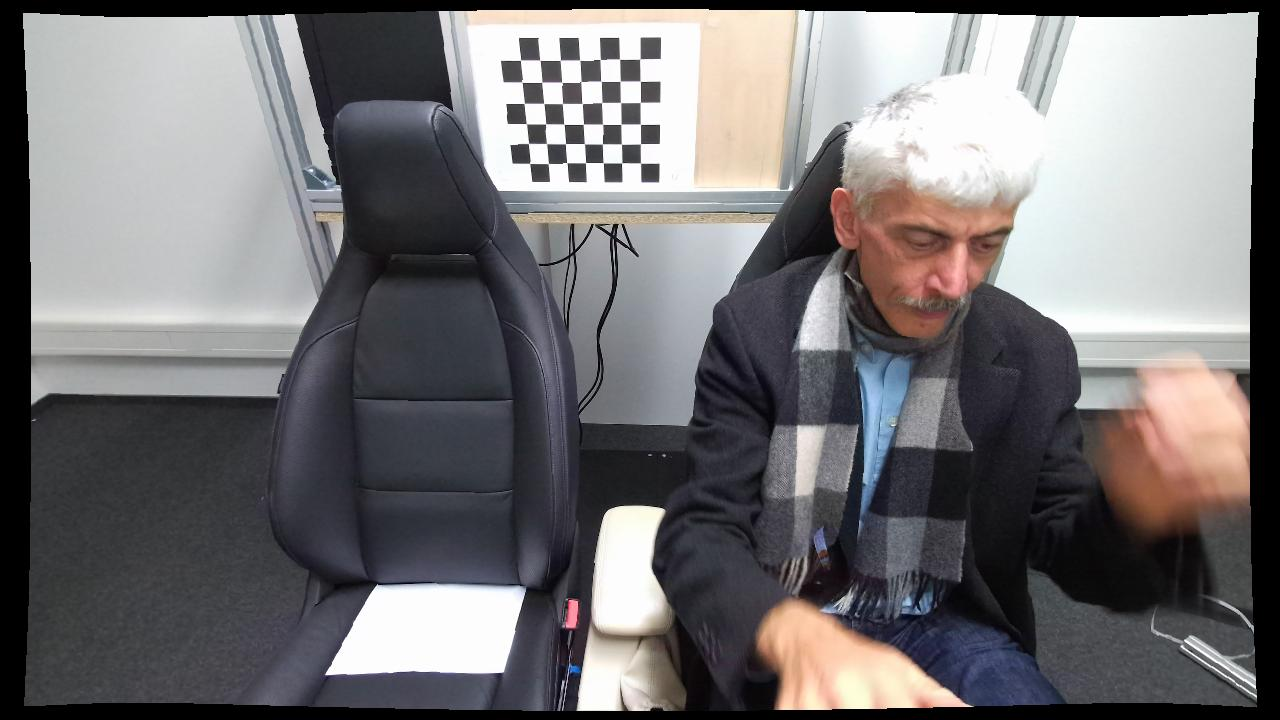Distracted: (647, 79, 1183, 711)
